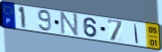1: (17, 6, 28, 30)
6: (82, 17, 99, 39)
7: (107, 18, 124, 43)
9: (38, 9, 54, 33)
I: (133, 23, 139, 45)
N: (60, 11, 80, 38)
